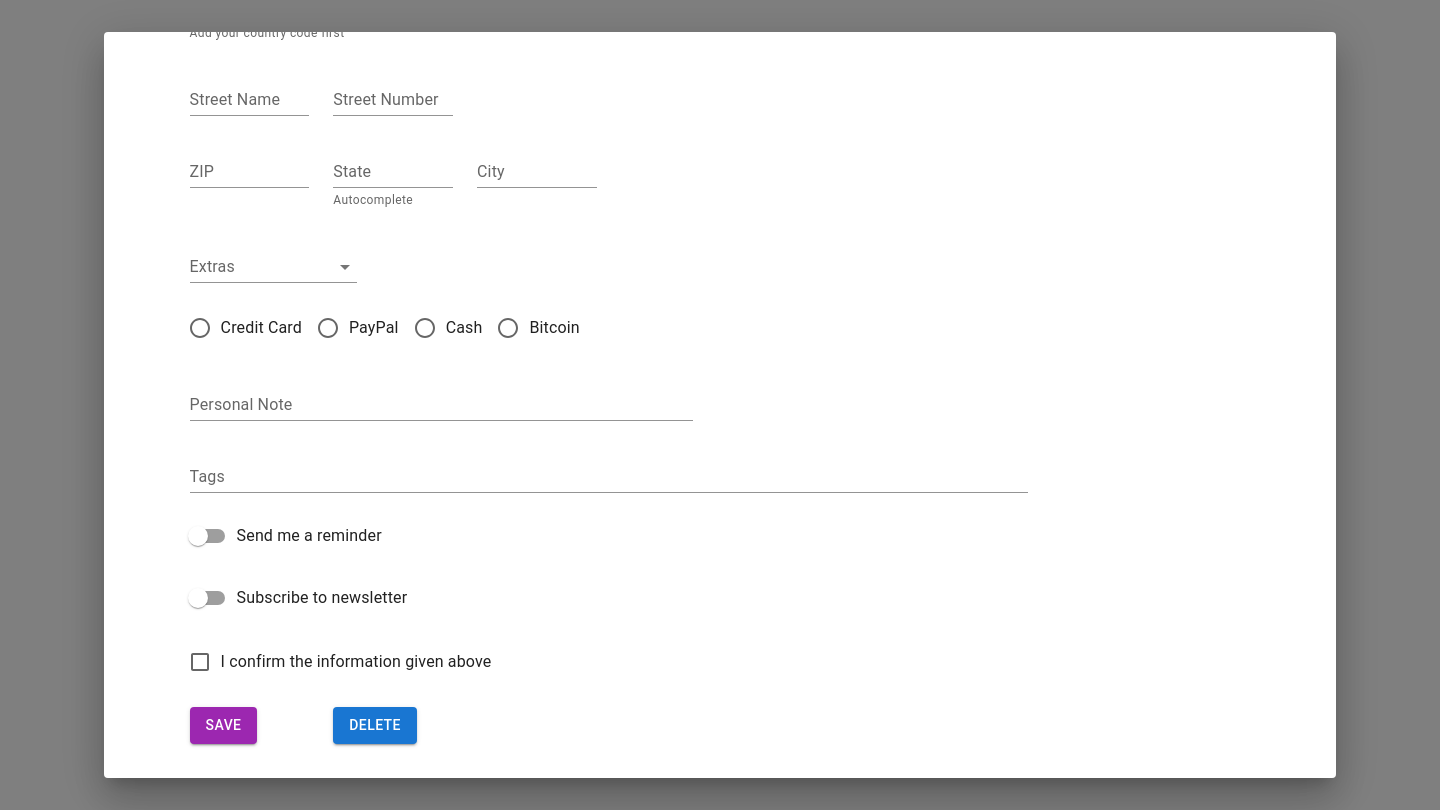
Scenario: ModalDialog › filters & and = for all text inputs
The image size is (1440, 810).
(page scrolled)
Step 1. Type "Test&Test=Test" into the field labelled "Personal Note" → (441,405), box [190, 389, 693, 421]
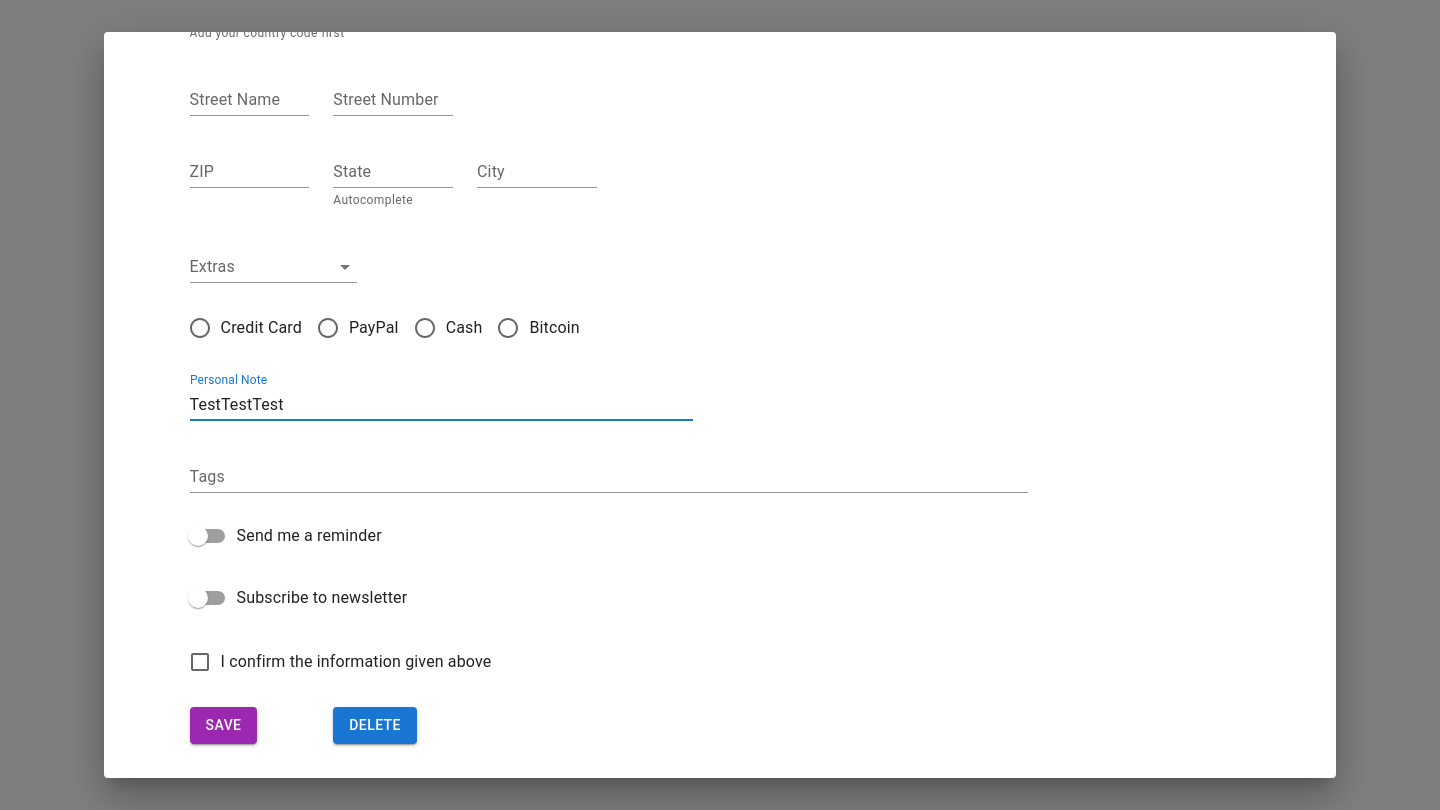
Result: the field labelled "Personal Note" holds "TestTestTest" at [190, 389, 693, 421]
